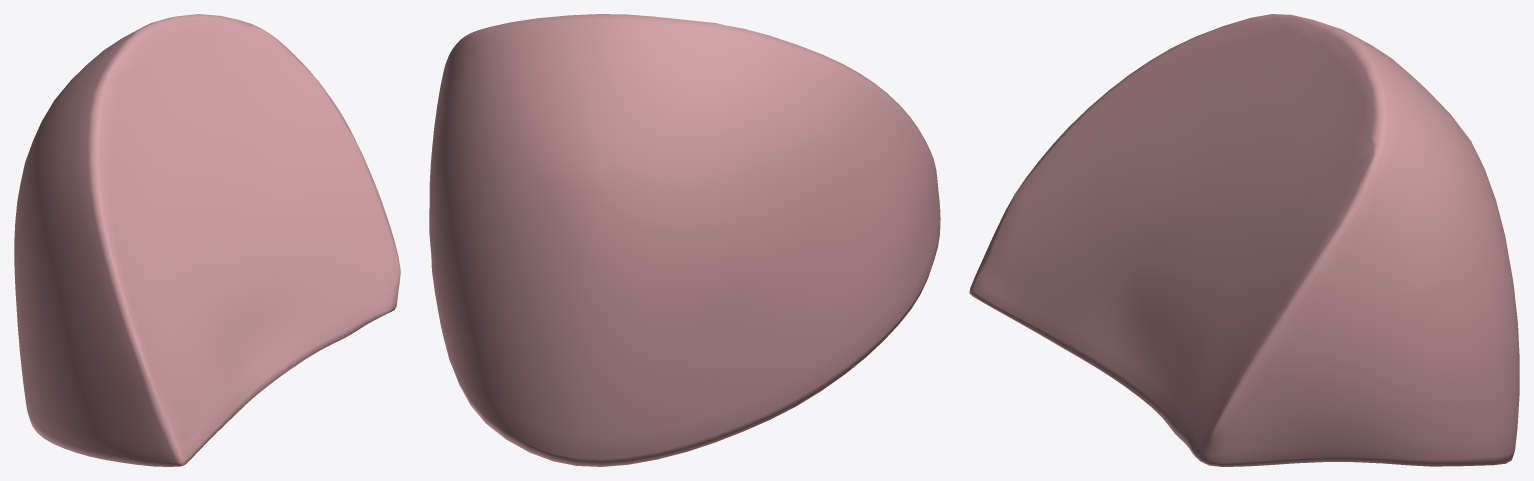
The picture shows the model from 3 angles, left to right: view 1: azimuth 30°, elevation 25°; view 2: azimuth 150°, elevation 25°; view 3: azimuth 270°, elevation 25°; orthographic projection. The views are drawn at different scales.
Visible parts, largest first — view 1: ZA_7e2aedb1d8924ac0; view 2: ZA_7e2aedb1d8924ac0; view 3: ZA_7e2aedb1d8924ac0.
Part boxes in pixels (x1,y1,x2,y2): ZA_7e2aedb1d8924ac0: (14,14,400,466); ZA_7e2aedb1d8924ac0: (429,14,940,466); ZA_7e2aedb1d8924ac0: (969,14,1519,466).
Size of the model in its own units: 0.0932 by 0.09 by 0.1064.
